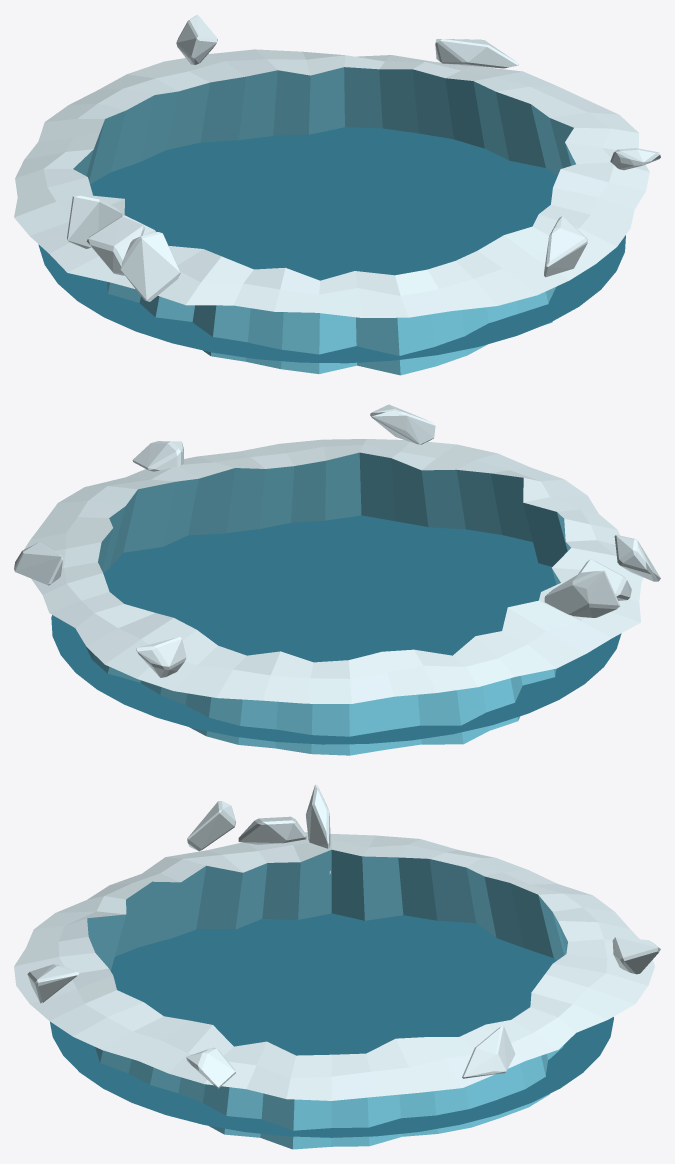
File: ice_hole_rim_b.glb
The picture shows the model from 3 angles, top to bottom: view 1: azimuth 30°, elevation 25°; view 2: azimuth 150°, elevation 25°; view 3: azimuth 270°, elevation 25°; orthographic projection. The views are drawn at different scales.
Visible parts, largest first — view 1: HoleRim, Water, Shard.006, Shard.005, Shard, Shard.004, Shard.003, Shard.001, Shard.002; view 2: HoleRim, Water, Shard, Shard.003, Shard.005, Shard.001, Shard.006, Shard.002, Shard.004; view 3: HoleRim, Water, Shard.005, Shard.004, Shard.006, Shard.001, Shard, Shard.003, Shard.002.
Boxes of the visible parts, bbox=[...] form: HoleRim: bbox=[14, 49, 649, 375]; Water: bbox=[38, 127, 625, 363]; Shard.006: bbox=[120, 232, 180, 301]; Shard.005: bbox=[435, 39, 518, 68]; Shard: bbox=[67, 195, 122, 248]; Shard.004: bbox=[86, 216, 144, 275]; Shard.003: bbox=[544, 216, 587, 277]; Shard.001: bbox=[176, 14, 217, 64]; Shard.002: bbox=[610, 148, 660, 170]; HoleRim: bbox=[24, 439, 643, 755]; Water: bbox=[51, 515, 621, 744]; Shard: bbox=[544, 570, 620, 617]; Shard.003: bbox=[370, 404, 435, 444]; Shard.005: bbox=[14, 542, 62, 585]; Shard.001: bbox=[136, 637, 186, 677]; Shard.006: bbox=[614, 534, 660, 581]; Shard.002: bbox=[132, 441, 183, 471]; Shard.004: bbox=[578, 559, 631, 600]; HoleRim: bbox=[14, 832, 654, 1149]; Water: bbox=[50, 913, 613, 1137]; Shard.005: bbox=[462, 1025, 515, 1078]; Shard.004: bbox=[238, 816, 306, 844]; Shard.006: bbox=[187, 801, 235, 851]; Shard.001: bbox=[612, 937, 660, 974]; Shard: bbox=[306, 784, 330, 874]; Shard.003: bbox=[27, 964, 79, 1003]; Shard.002: bbox=[186, 1047, 235, 1088].
Bounding box in the file's own units: 2.76 × 0.5995 × 2.79.
